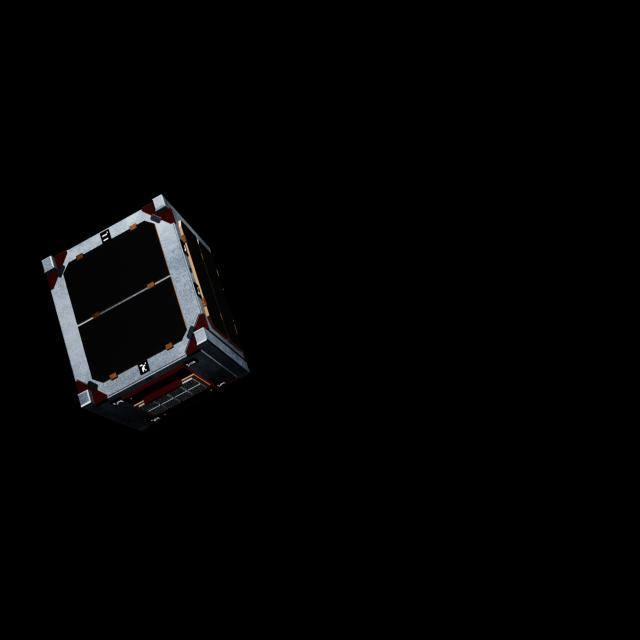satellite: (41, 192, 256, 447)
